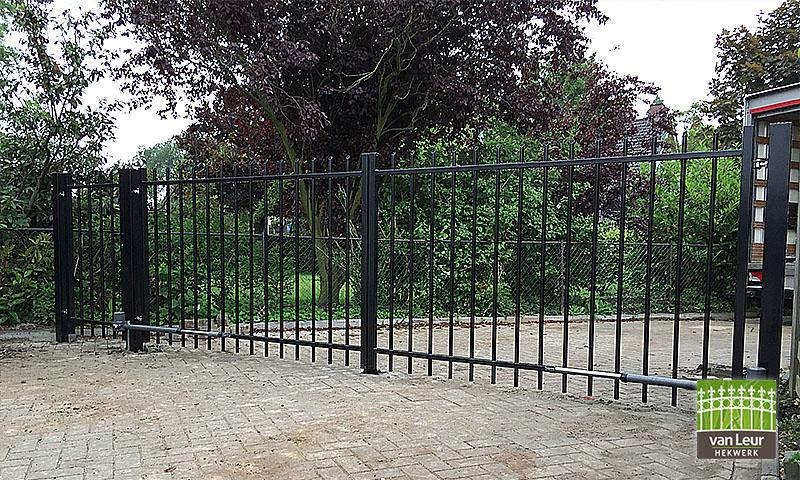obstacle: (525, 198, 703, 440), (255, 125, 473, 264), (236, 69, 602, 149), (139, 94, 225, 166), (153, 90, 233, 115)
